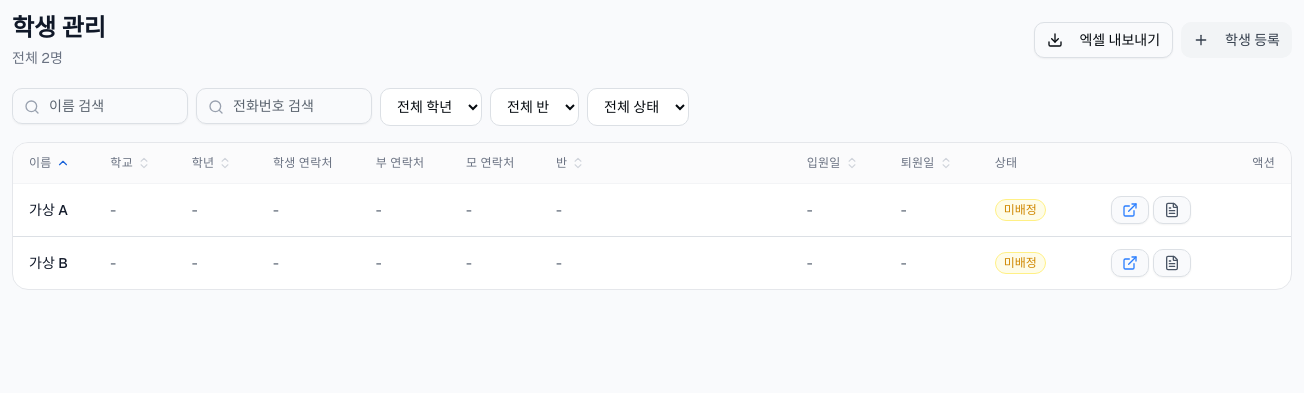
Test case: names search and filter controls and restores an empty result with reset
Expected: the field labelled "전화번호 검색" is shown, [196,88,372,124]
Expected: the dropdown named "학년 필터" is shown, [380,88,482,126]
Type "없는 학생" into the field labelled "이름 검색" at (100,106), box [12,88,188,124]
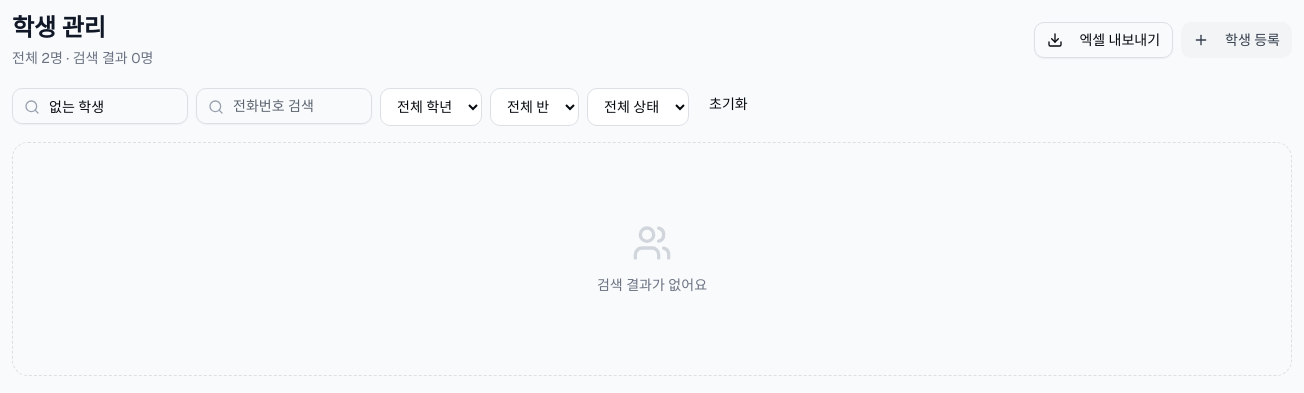
Now the text "가상 A" is gone
Click the button "초기화" at (728,104), box [697,88,760,120]
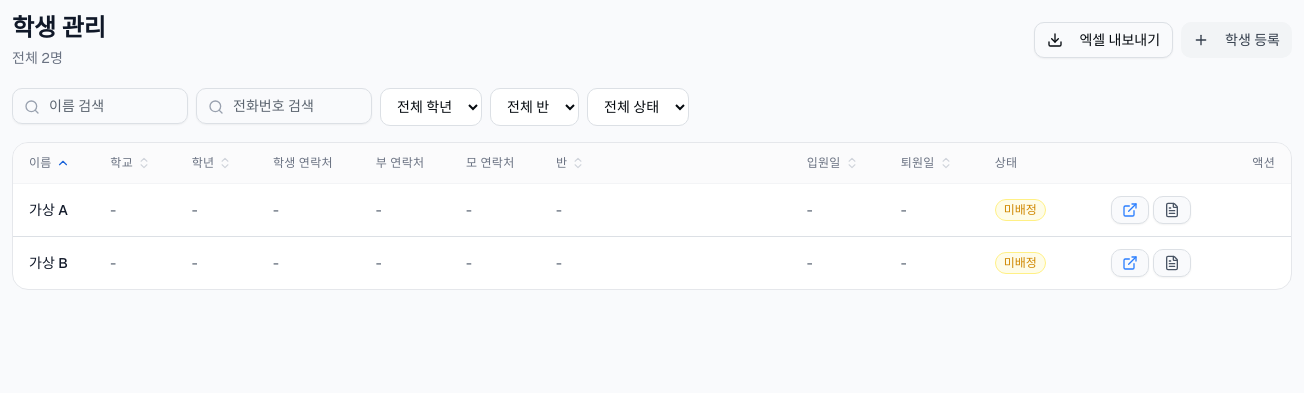
Now the text "가상 A" is shown, box [13,184,94,236]
